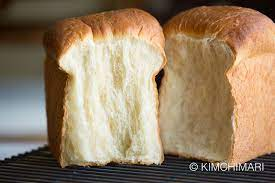bread: (45, 10, 275, 168)
